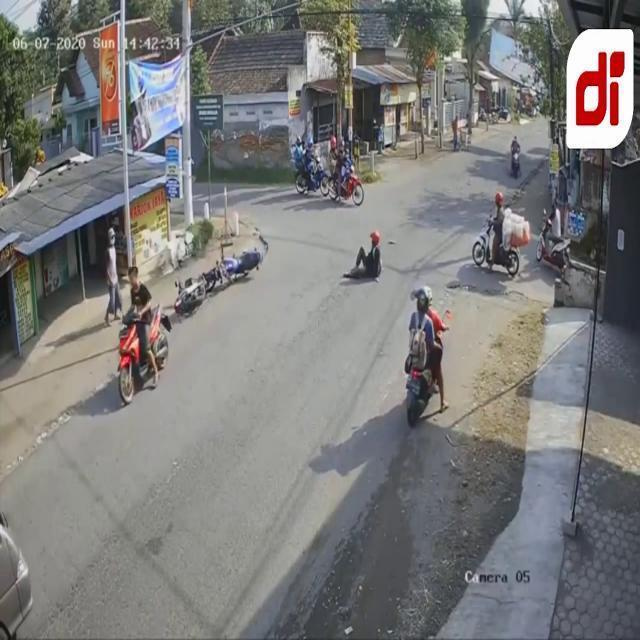accident: (174, 246, 264, 312)
non-accident: (295, 134, 363, 202)
